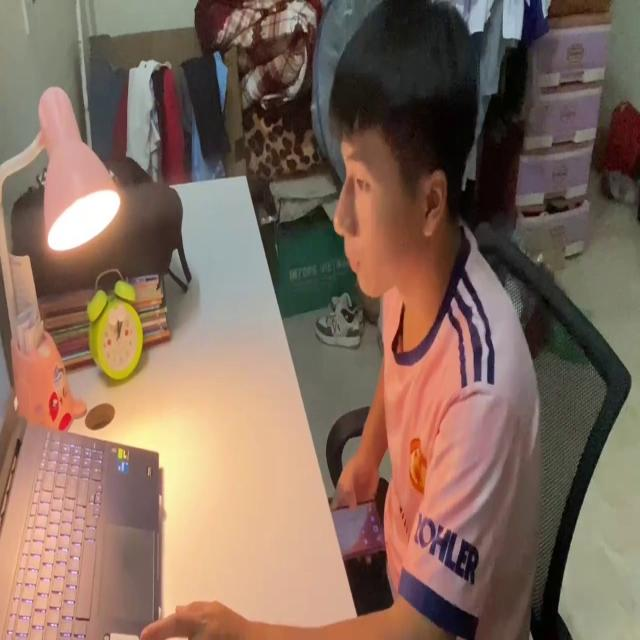laptop: (0, 317, 162, 639)
phone: (326, 501, 388, 562)
student: (149, 0, 547, 640)
